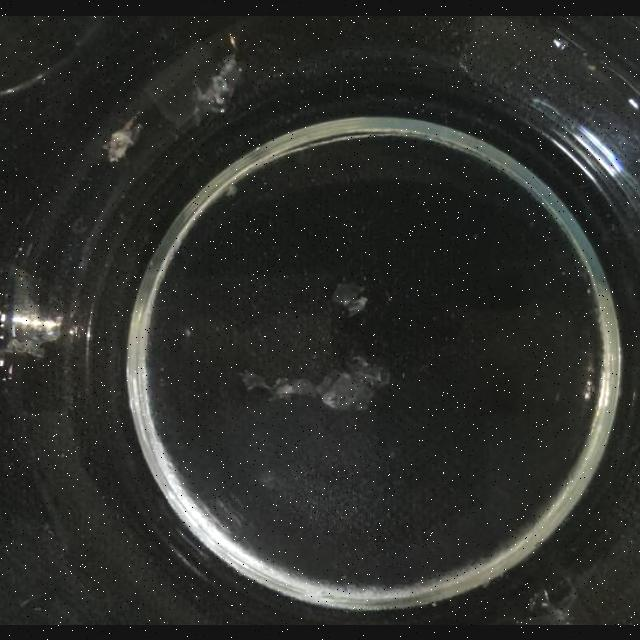Fibre: (317, 356, 389, 410), (191, 52, 241, 122), (509, 582, 578, 624), (331, 280, 369, 316), (3, 334, 47, 360), (212, 52, 238, 82)
